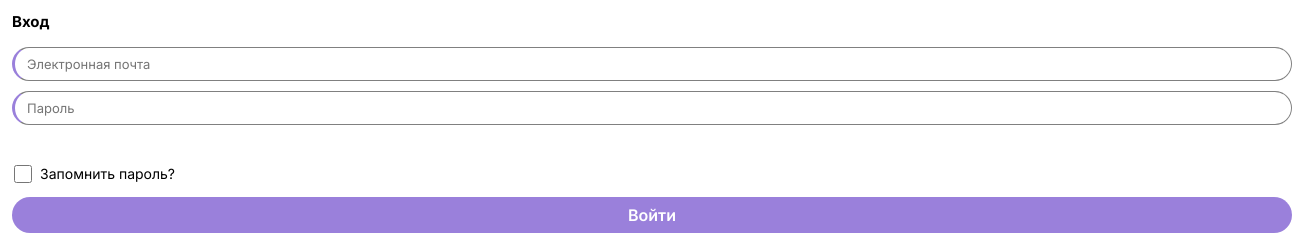
Test: AuthForm › отправка формы › после исправления данных сообщение об ошибке формата исчезает
This screenshot has width=1304, height=252.
Click the button "Войти" at (652, 214), box 12,196 -> 1292,232
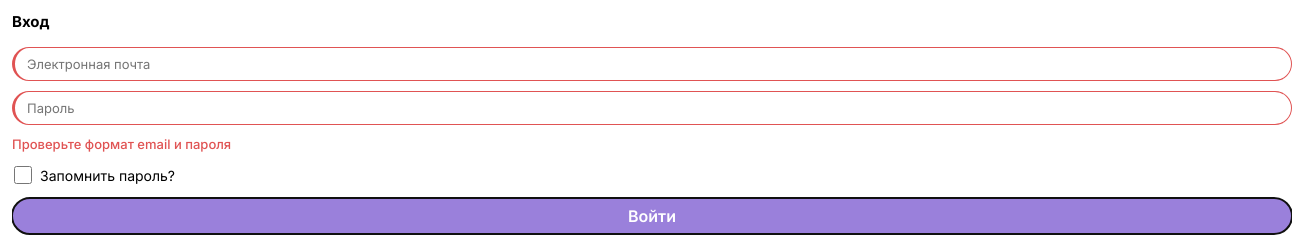
Now the text "Проверьте формат email и пароля" is shown, box 12,136 -> 231,152
Type "test@email.com" into the field labelled "Электронная почта" at (652, 64), box 12,46 -> 1292,80
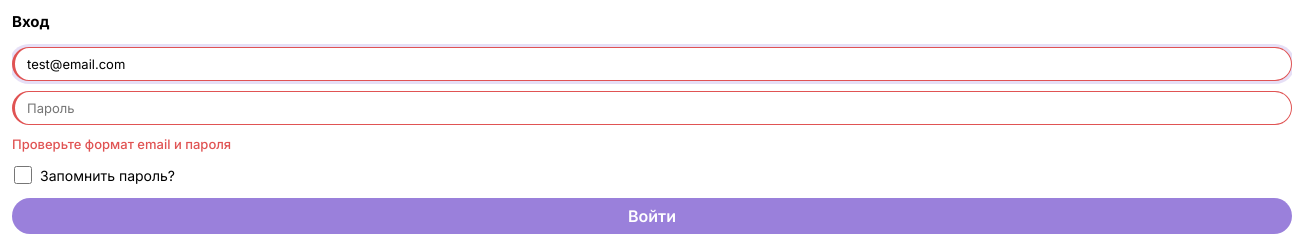
Type "abobaBebra1487" into the password field labelled "Пароль" at (652, 108), box 12,90 -> 1292,124
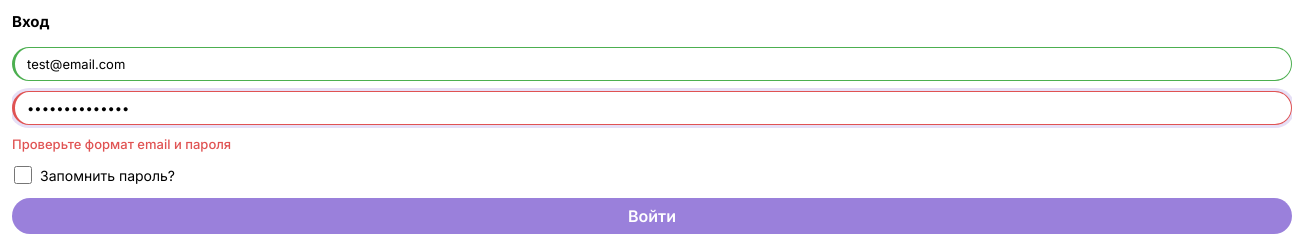
Click the button "Войти" at (652, 216), box 12,198 -> 1292,234
Wait 800 ms
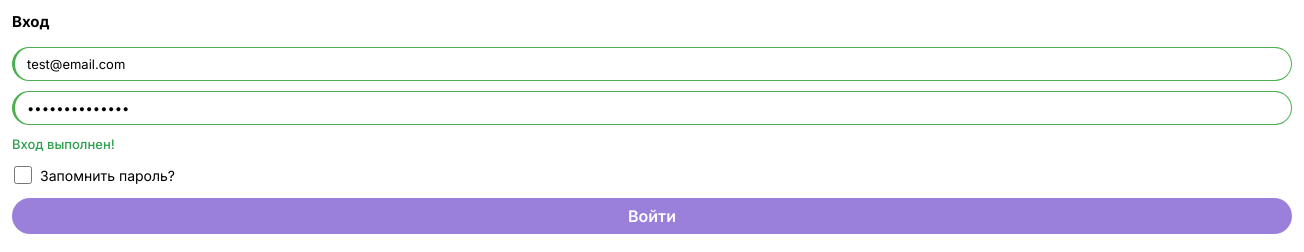
Now the text "Проверьте формат email и пароля" is gone
